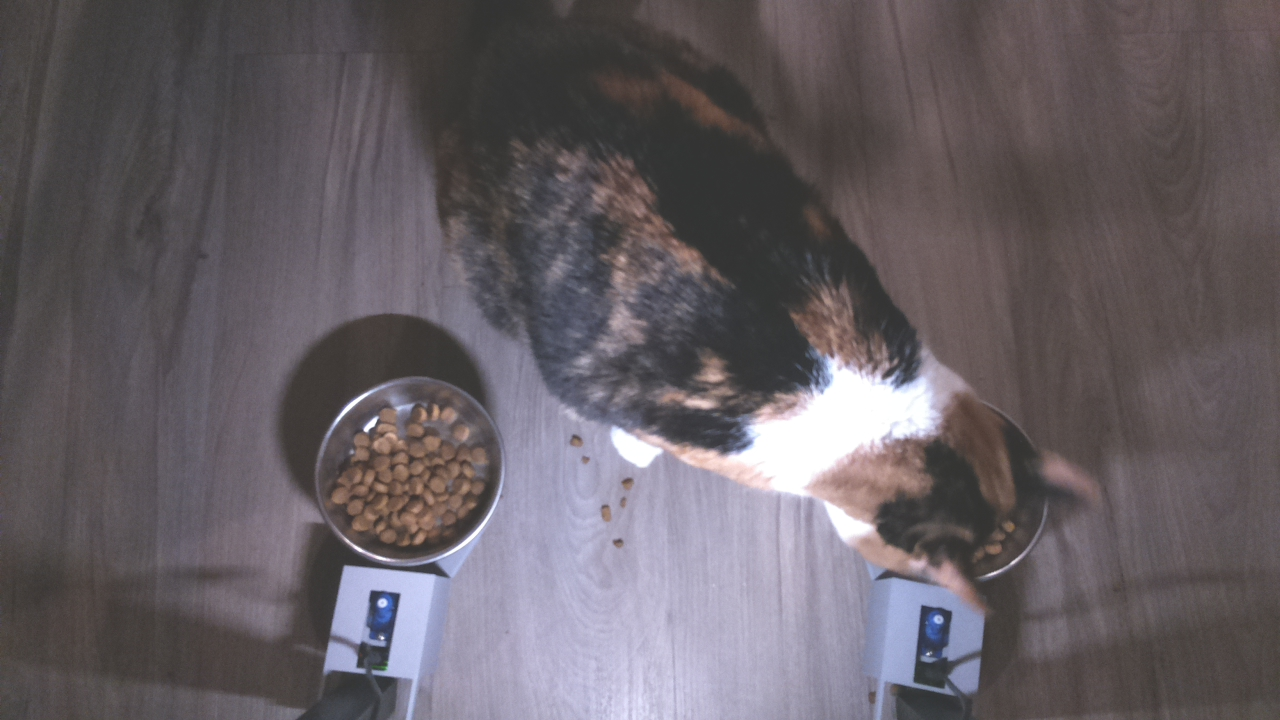bella_eating: (808, 300, 1101, 608)
open_bowl: (311, 370, 509, 572)
